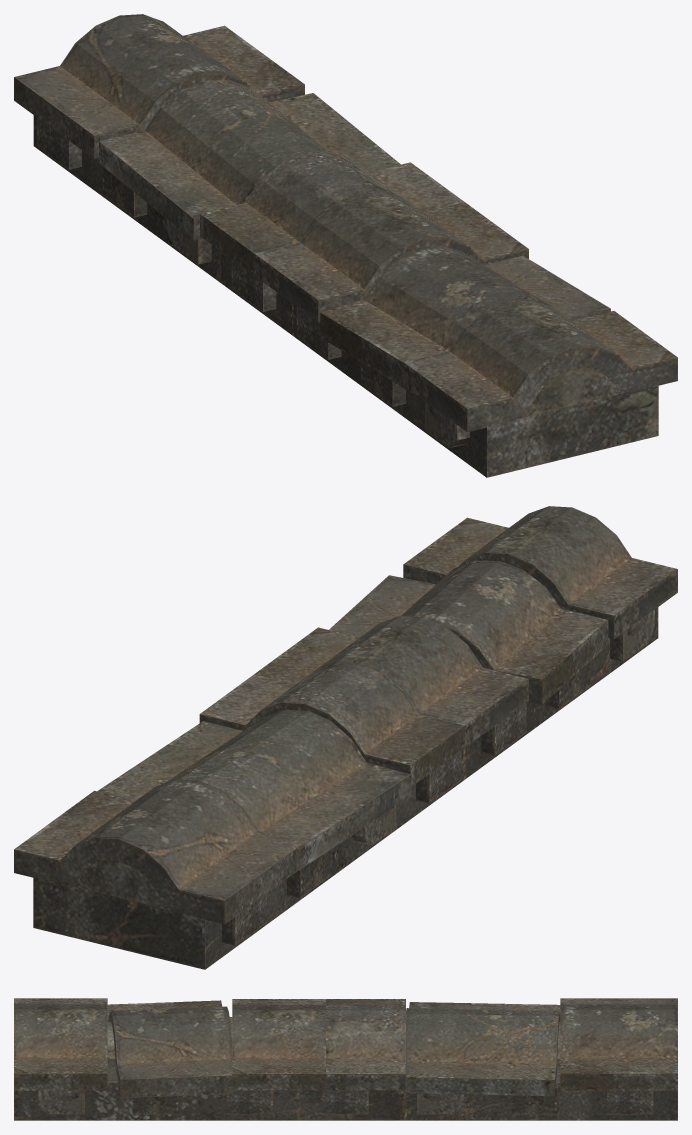
The model's file is bg_lut_lutomb_border02_sm_old.FBX.
3 renders of one model, top to bottom at view 1: azimuth 30°, elevation 25°; view 2: azimuth 150°, elevation 25°; view 3: azimuth 270°, elevation 25°, orthographic. The views are drawn at different scales.
Parts seen in each view (by area): view 1: bg_lut_lutomb_border02_sm_old; view 2: bg_lut_lutomb_border02_sm_old; view 3: bg_lut_lutomb_border02_sm_old.
Boxes of the visible parts, box(x1,y1,x2,y2) form: bg_lut_lutomb_border02_sm_old: box(14, 14, 677, 477); bg_lut_lutomb_border02_sm_old: box(14, 506, 677, 969); bg_lut_lutomb_border02_sm_old: box(14, 998, 677, 1120).
Size of the model in its own units: 72.33 by 34.15 by 256.
